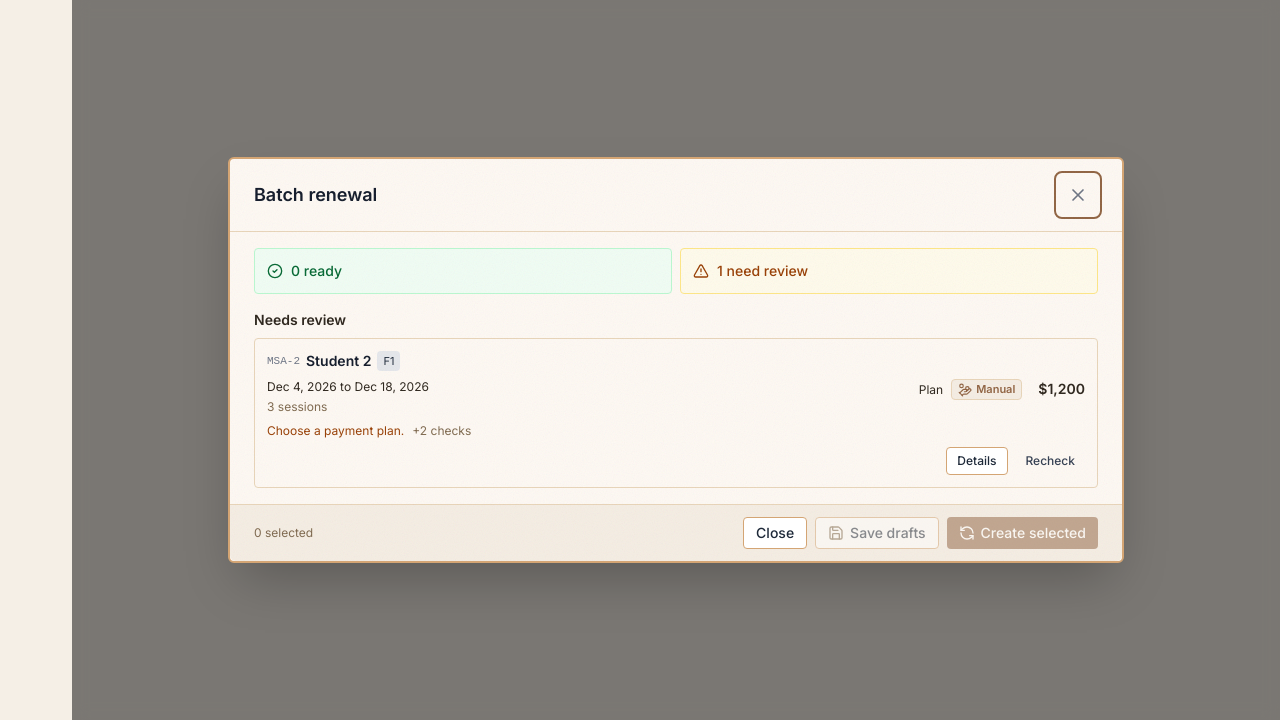
Test: batch renewal comparison › keeps source facts in Needs review and exposes full reasons only in Details
Expected: the dialog is shown, [228, 157, 1124, 563]
Expected: the text "Choose a payment plan." is shown, [267, 423, 404, 438]
What coordinates should you click on to do the following:
click the button "Details"
I would click on:
 (977, 461)
Its box is [946, 447, 1008, 475].
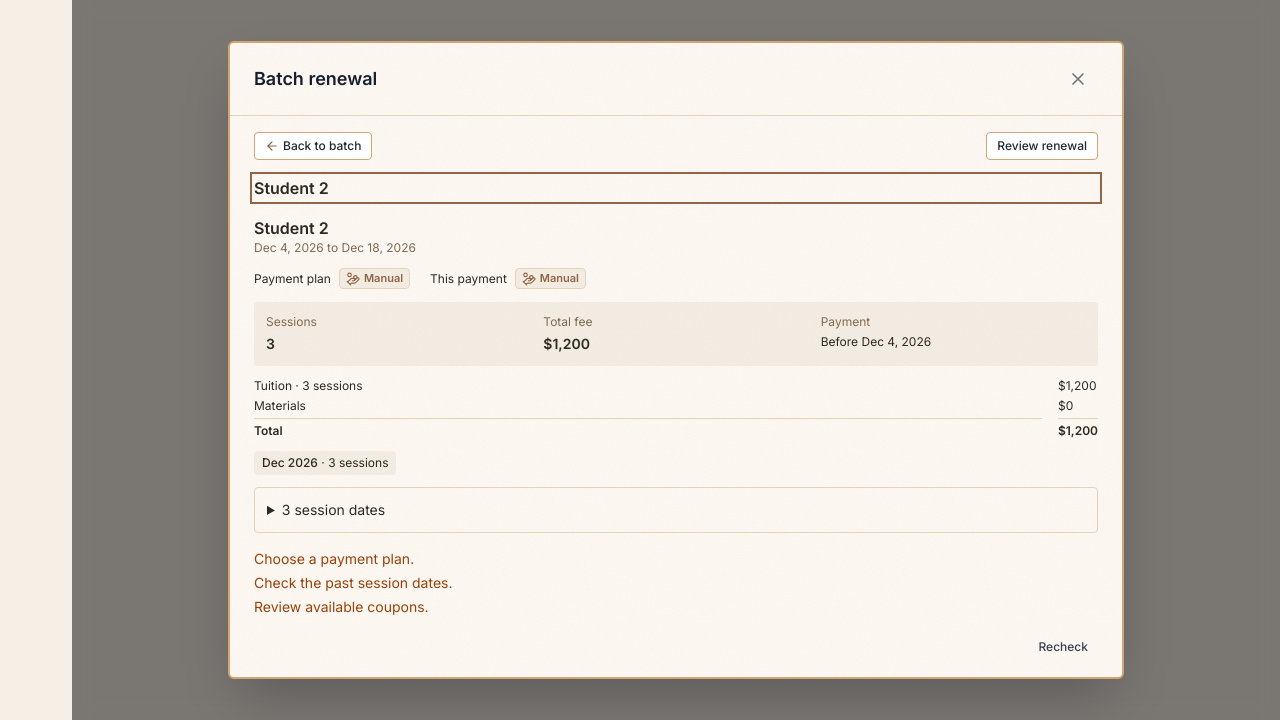
Expected: the list item "Check the past session dates." is shown, [254, 574, 452, 591]
Expected: the list item "Review available coupons." is shown, [254, 598, 429, 615]
